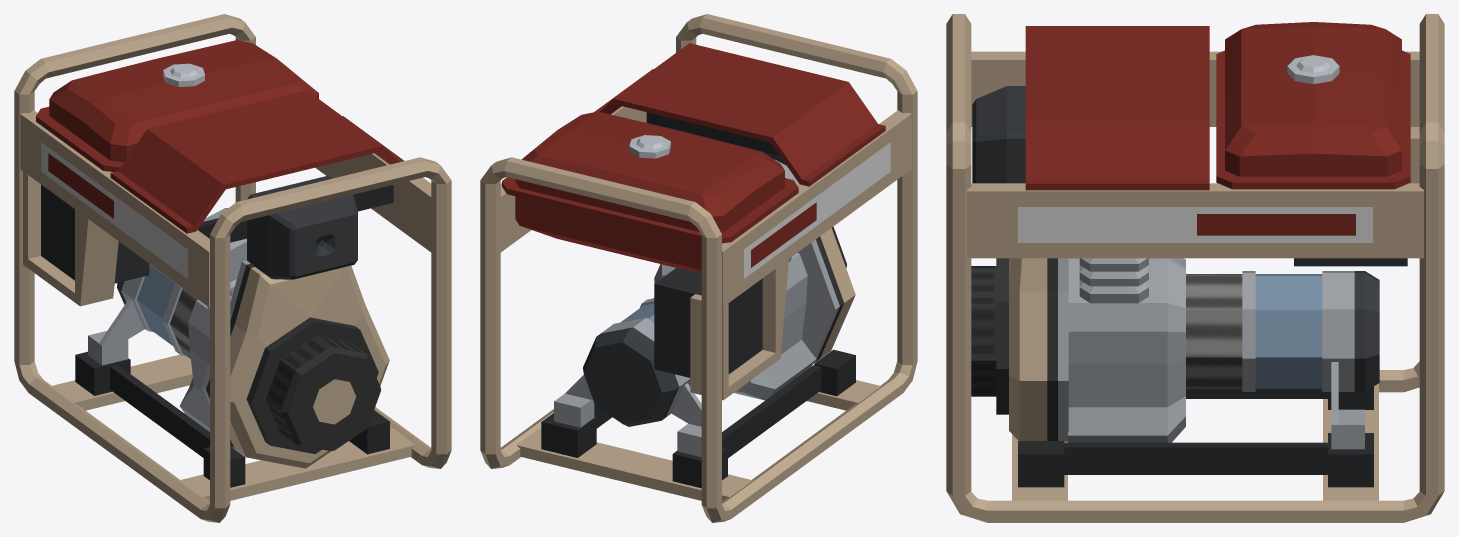
File: SM_Prop_Generator_Small_01.glb
The picture shows the model from 3 angles, left to right: view 1: azimuth 30°, elevation 25°; view 2: azimuth 150°, elevation 25°; view 3: azimuth 270°, elevation 25°; orthographic projection. The views are drawn at different scales.
Parts seen in each view (by area): view 1: SM_Prop_Generator_Small_01; view 2: SM_Prop_Generator_Small_01; view 3: SM_Prop_Generator_Small_01.
Part boxes in pixels (x1=…): SM_Prop_Generator_Small_01: x1=14, y1=14, x2=451, y2=522; SM_Prop_Generator_Small_01: x1=480, y1=14, x2=917, y2=522; SM_Prop_Generator_Small_01: x1=946, y1=14, x2=1444, y2=522.
Bounding box in the file's own units: 0.4252 × 0.5613 × 0.6404.
1 material, 1 textured.
